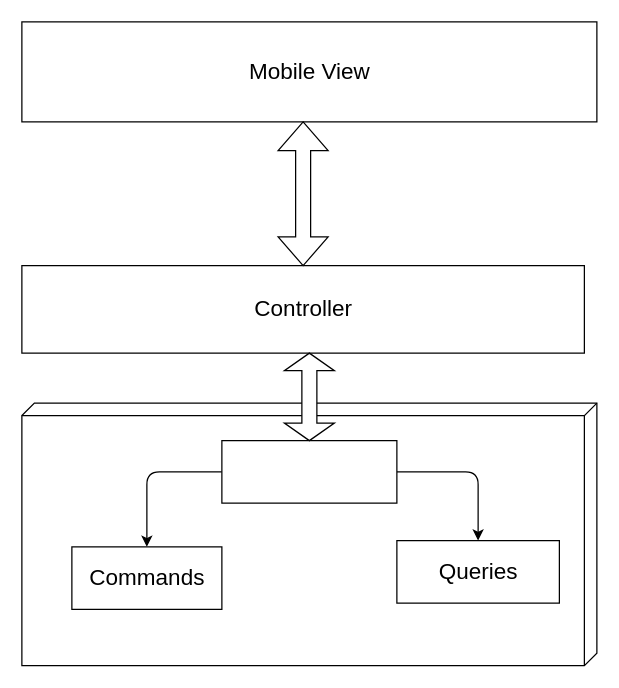
The diagram is 619 pixels wide and 688 high, and some of its shapes have lost their labels. Each missing label, with the box of its shape:
Model: (21, 402, 597, 666)
Services: (221, 439, 397, 503)
